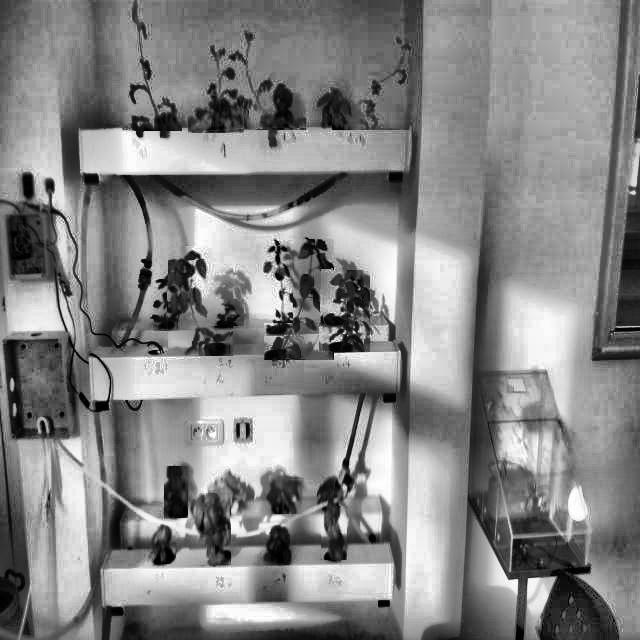plants: (264, 239, 334, 360), (122, 0, 182, 131), (168, 246, 233, 356), (232, 34, 306, 129), (333, 50, 410, 130), (188, 44, 244, 133), (322, 270, 370, 352), (189, 493, 231, 565), (259, 241, 293, 323), (154, 279, 188, 331), (321, 506, 347, 560), (266, 477, 302, 514), (146, 522, 176, 564), (164, 466, 188, 518), (260, 525, 291, 565), (210, 299, 244, 326)
